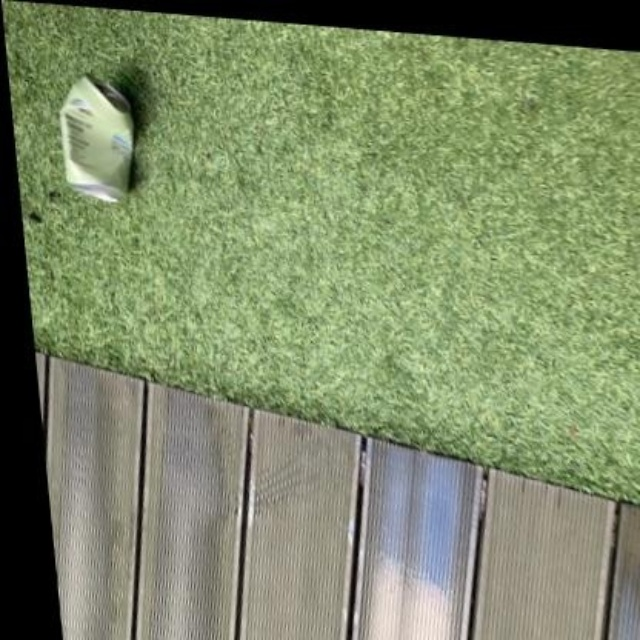trash: (60, 75, 132, 200)
